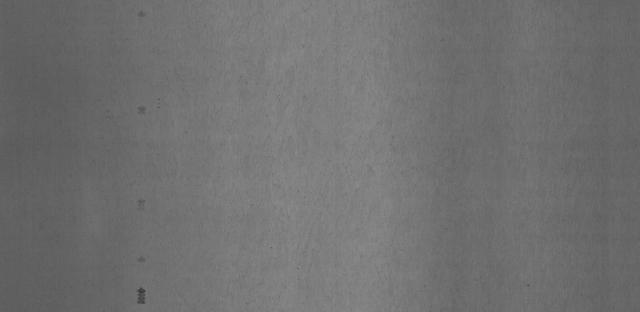oil_spot: (132, 194, 149, 216), (133, 287, 149, 306), (134, 100, 148, 120), (134, 7, 149, 21), (134, 253, 148, 266)
silk_spot: (210, 30, 392, 302)
